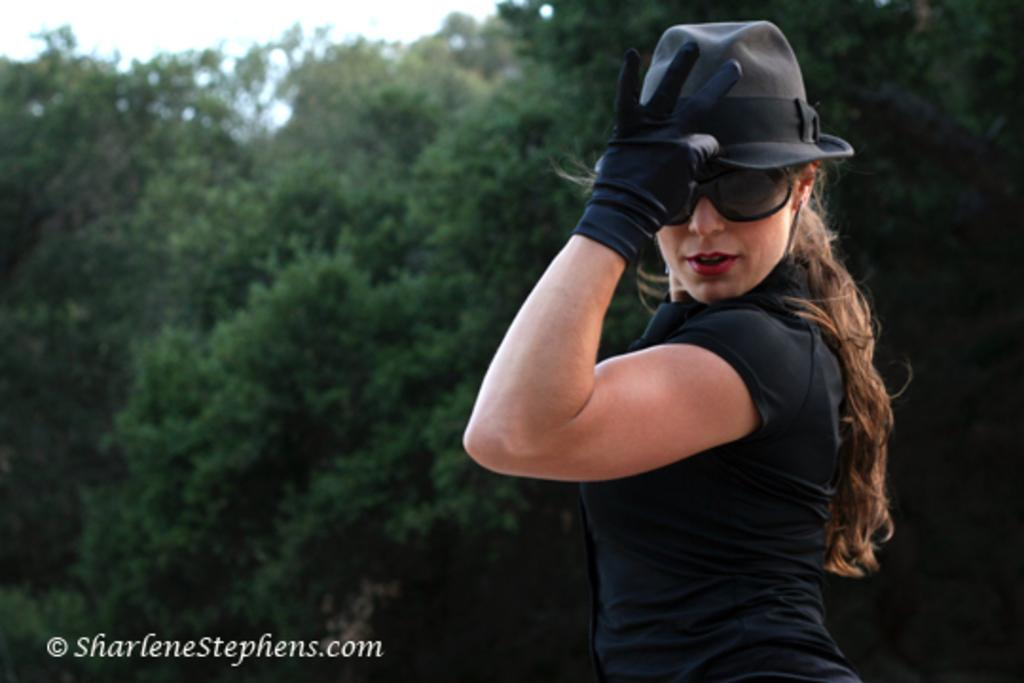Hat: (640, 22, 850, 172)
